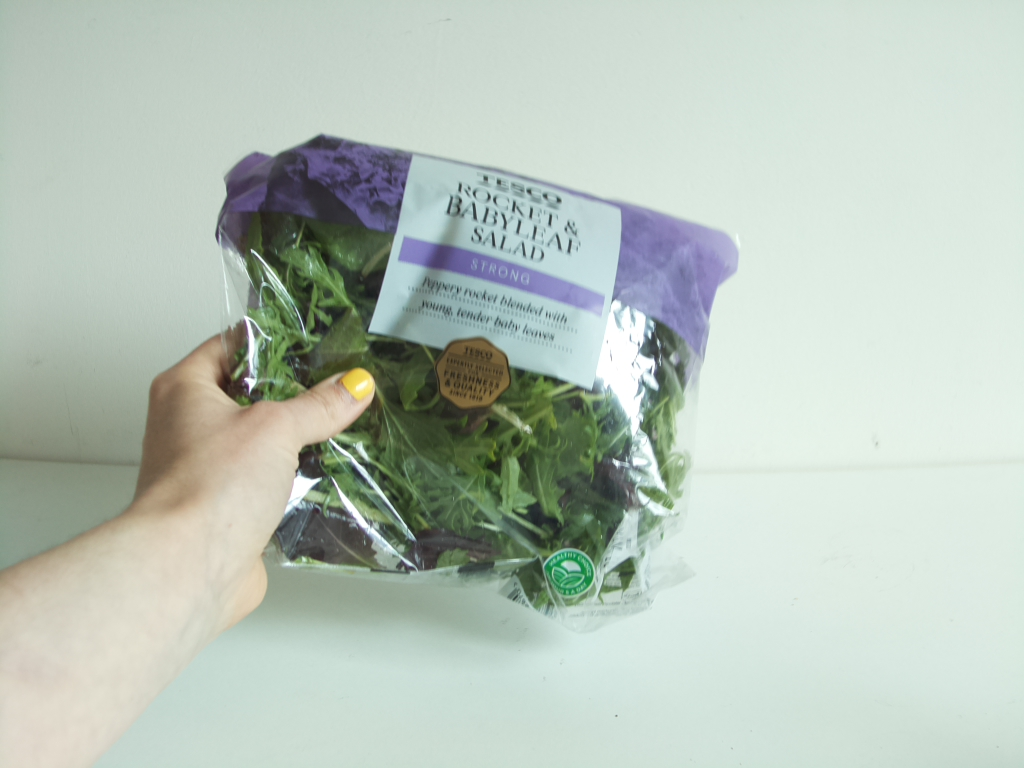salad: (212, 133, 740, 626)
